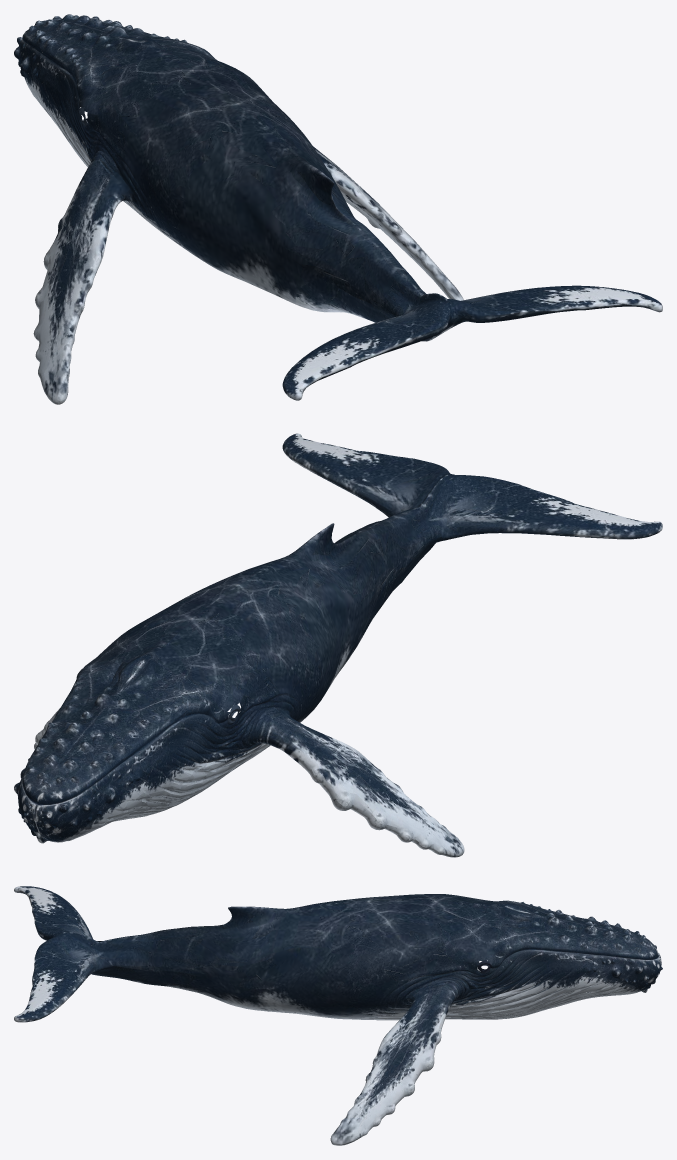
Rendered from humpback.glb.
3 views of the same model, one above another, from view 1: azimuth 30°, elevation 25°; view 2: azimuth 150°, elevation 25°; view 3: azimuth 270°, elevation 25° (orthographic). The views are drawn at different scales.
Parts seen in each view (by area): view 1: humpback; view 2: humpback; view 3: humpback.
Part boxes in pixels (x1,y1,x2,y2): humpback: (14,14,662,404); humpback: (14,433,662,857); humpback: (14,886,662,1145).
Bounding box in the file's own units: 0.5626 × 0.3087 × 1.05.
Materials: 1 (1 with a texture image).
